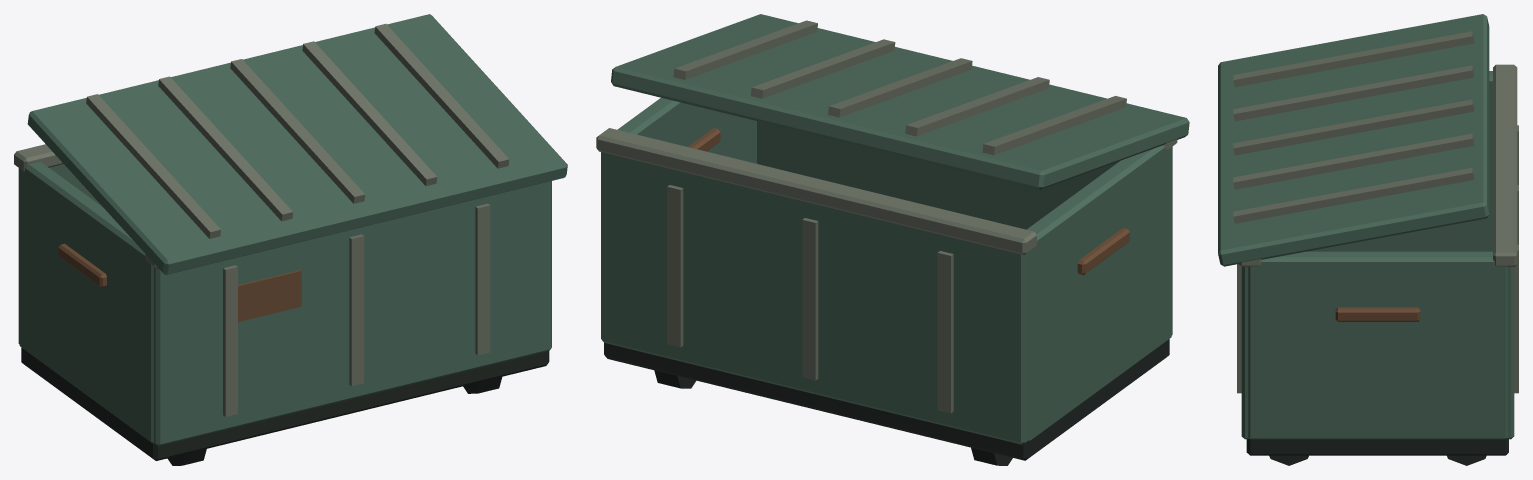
The model's file is dumpster.glb.
3 renders of one model, left to right at view 1: azimuth 30°, elevation 25°; view 2: azimuth 150°, elevation 25°; view 3: azimuth 270°, elevation 25°, orthographic. The views are drawn at different scales.
Parts seen in each view (by area): view 1: dumpster; view 2: dumpster; view 3: dumpster.
Part boxes in pixels (box(x1,y1,x2,y2)): dumpster: box(14, 14, 567, 465); dumpster: box(596, 14, 1189, 465); dumpster: box(1218, 14, 1518, 465).
Size of the model in its own units: 2.29 by 1.58 by 1.49.
